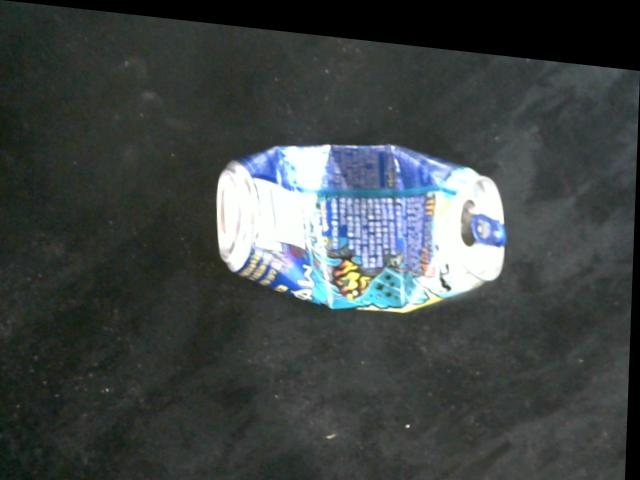can: (215, 135, 509, 299)
